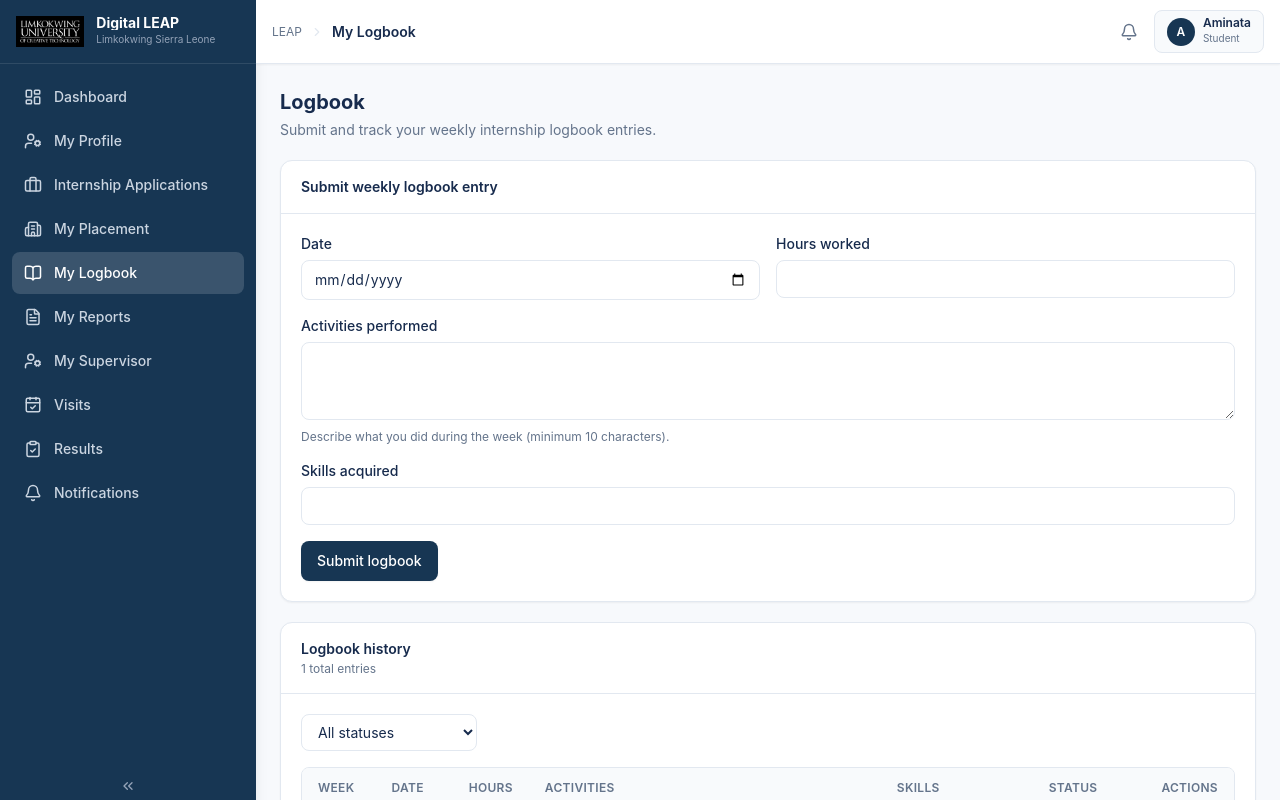
Test: UI smoke: every page renders for every role without errors › logbook form shows validation and rule errors
Click the button "Submit logbook": (369, 561) [301, 541, 438, 581]
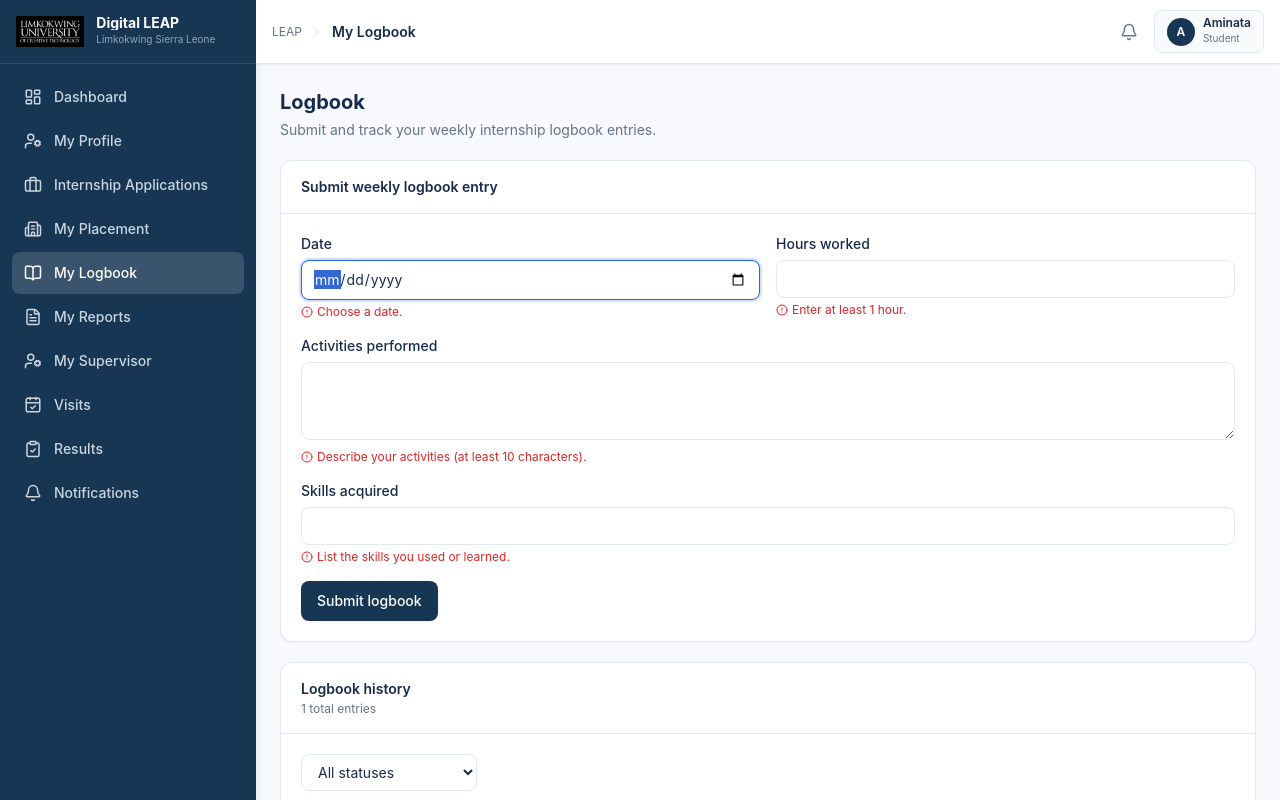
Expected: the text "Choose a date." is shown, [301, 304, 402, 319]
In the date field labelled "Date": (530, 280) [301, 260, 760, 300], type "2026-01-05"
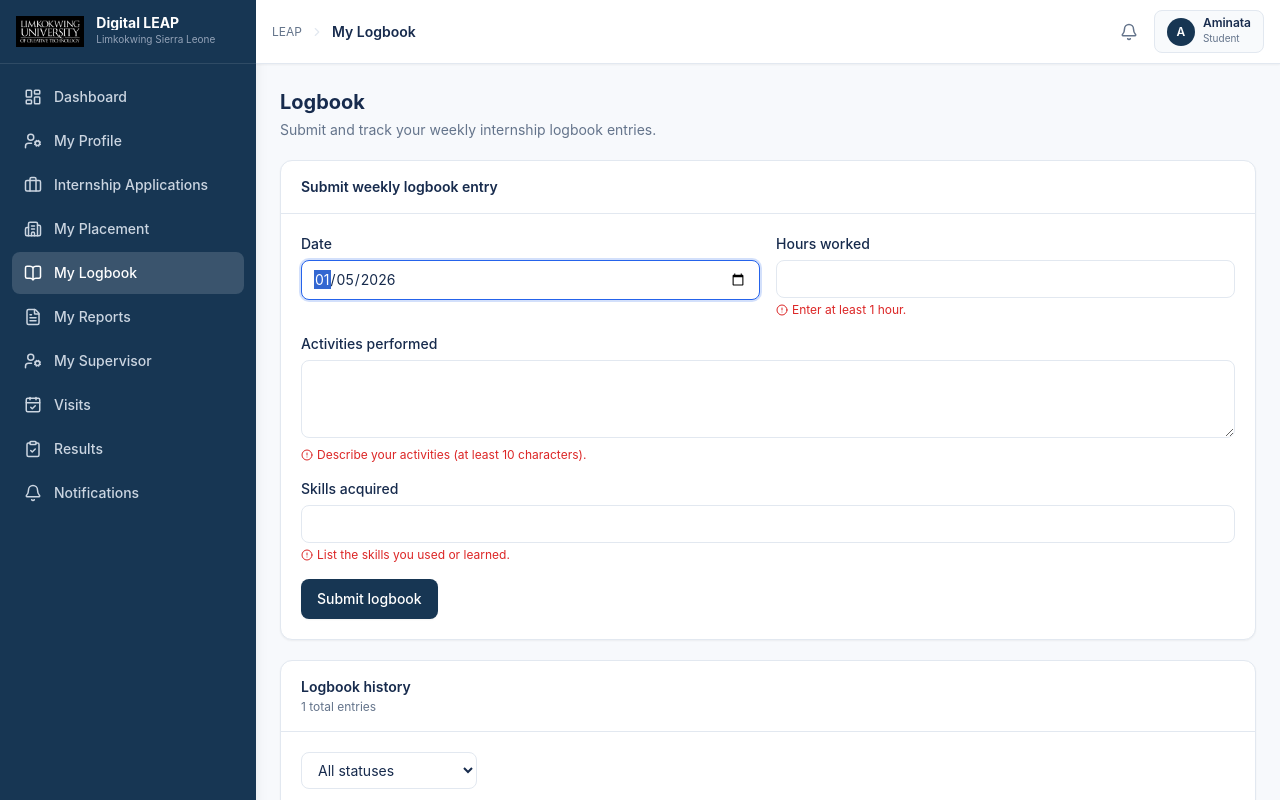
In the number field labelled "Hours worked": (1006, 279) [776, 260, 1235, 298], type "10"
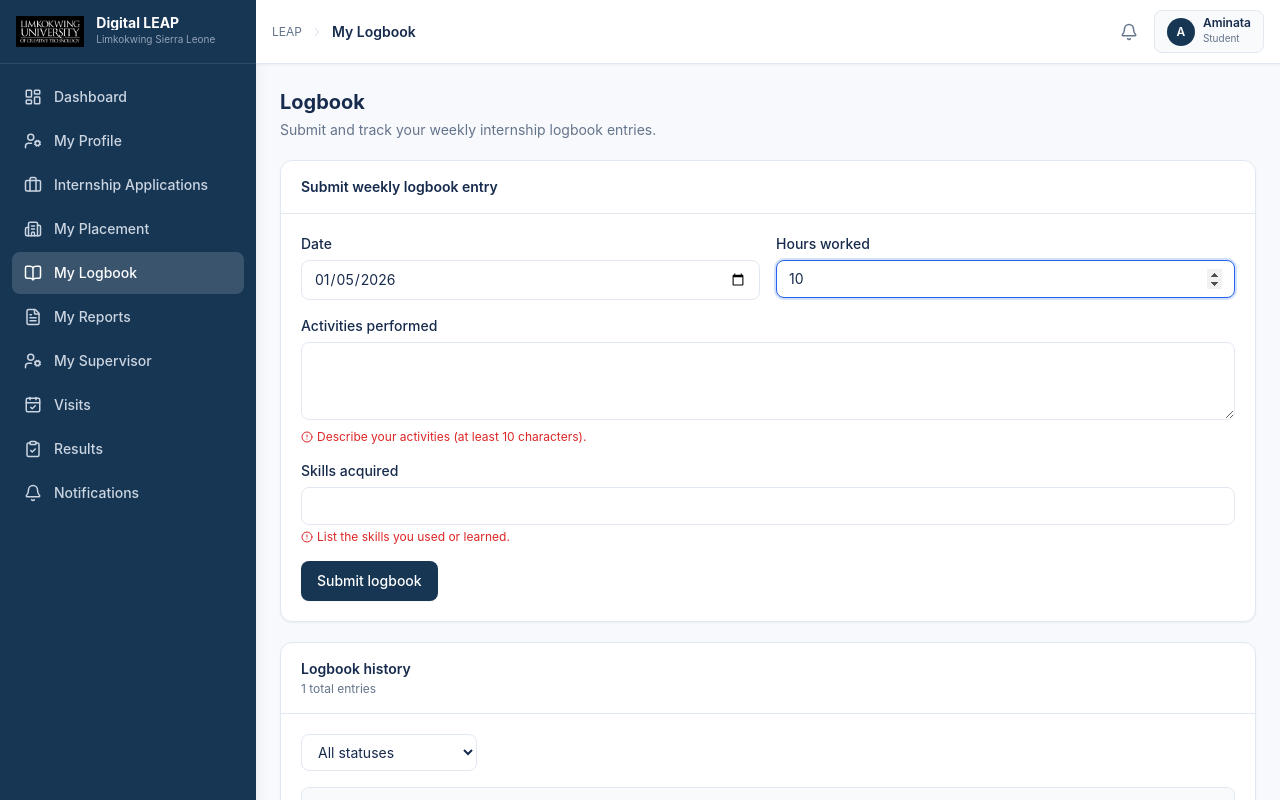
In the text box labelled "Activities performed": (768, 381) [301, 342, 1235, 420], type "Some activities here."
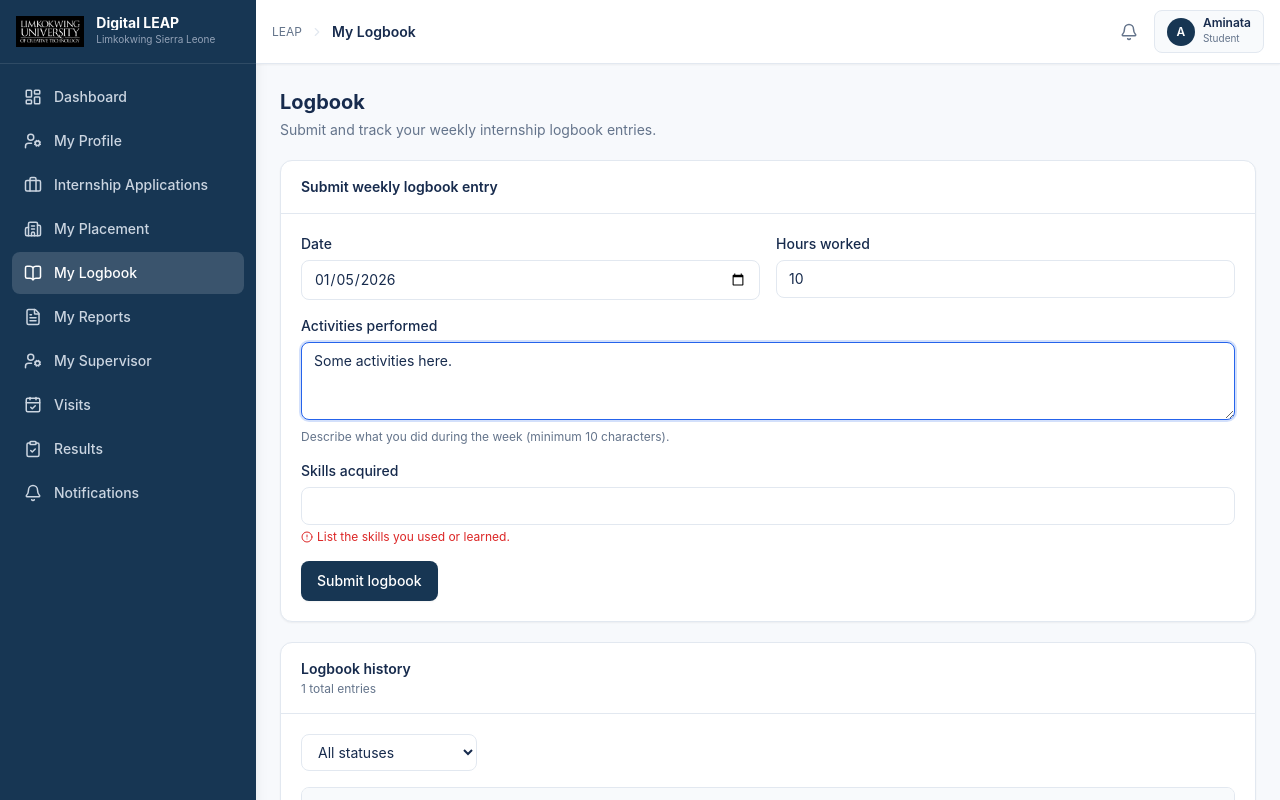
In the field labelled "Skills acquired": (768, 506) [301, 487, 1235, 525], type "X"
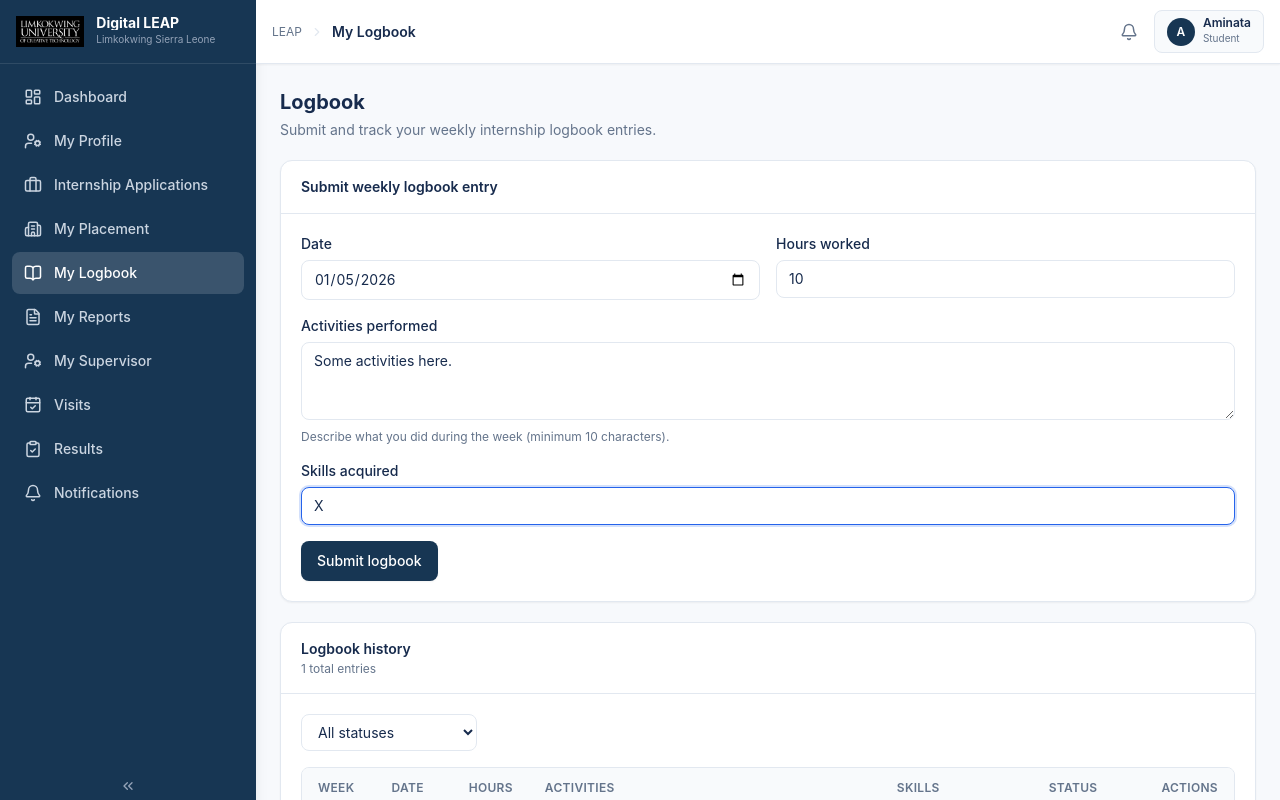
Click the button "Submit logbook": (369, 561) [301, 541, 438, 581]
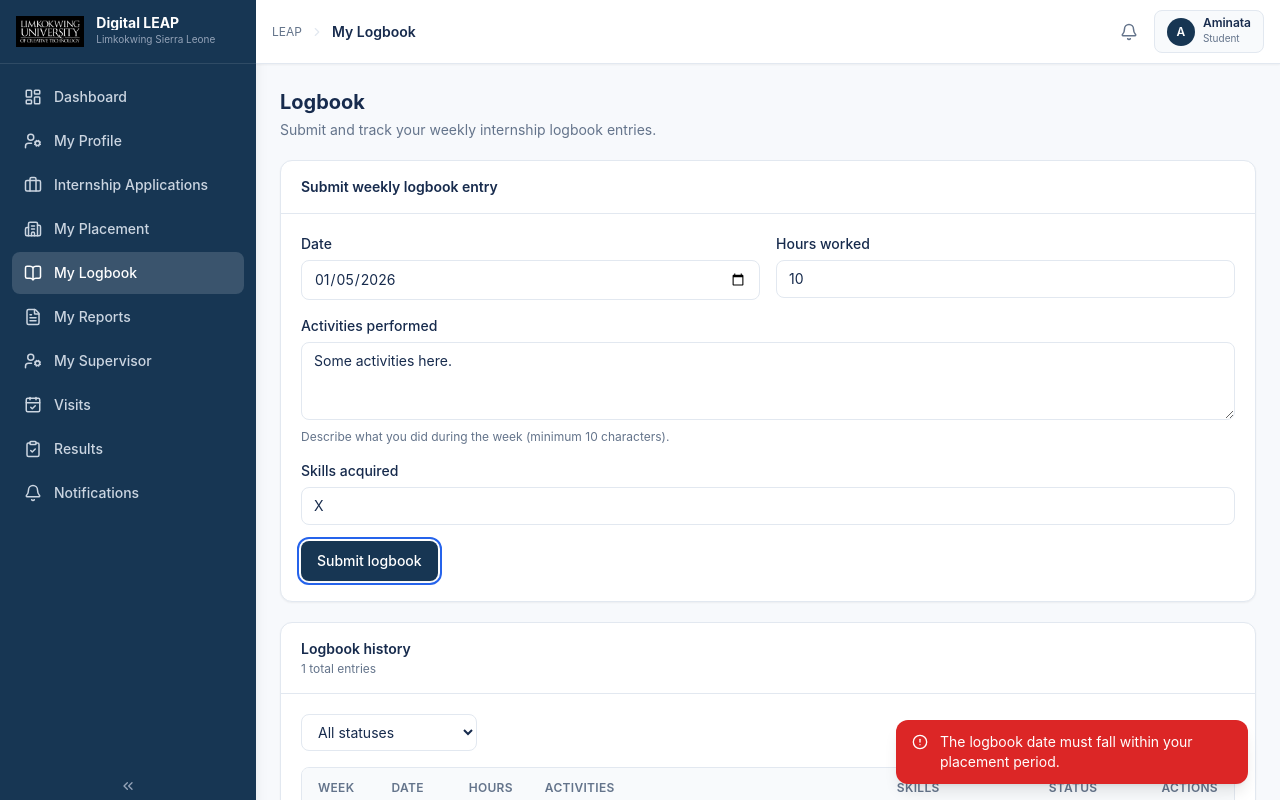
Expected: the text "The logbook date must fall within your placement period." is shown, [940, 732, 1232, 772]
